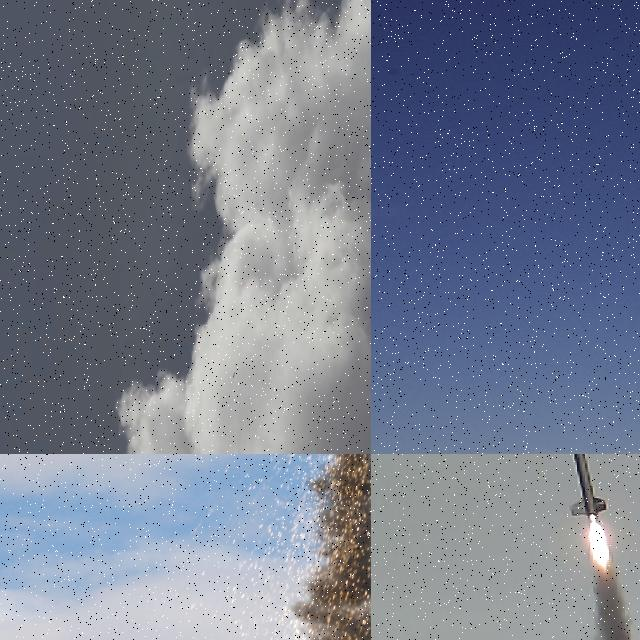Rocket: (564, 454, 606, 518), (232, 371, 236, 379)
